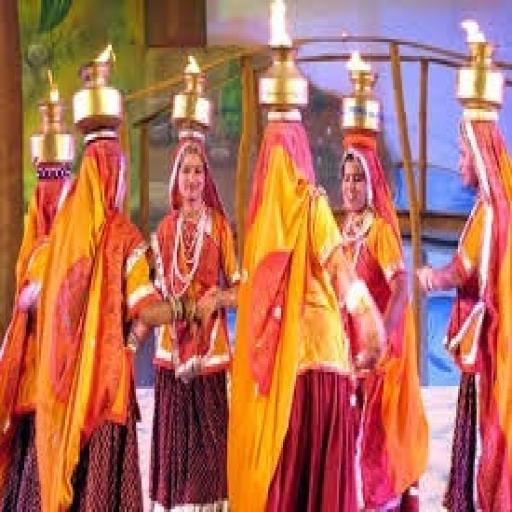dancing: (225, 115, 389, 509), (413, 112, 510, 509)
